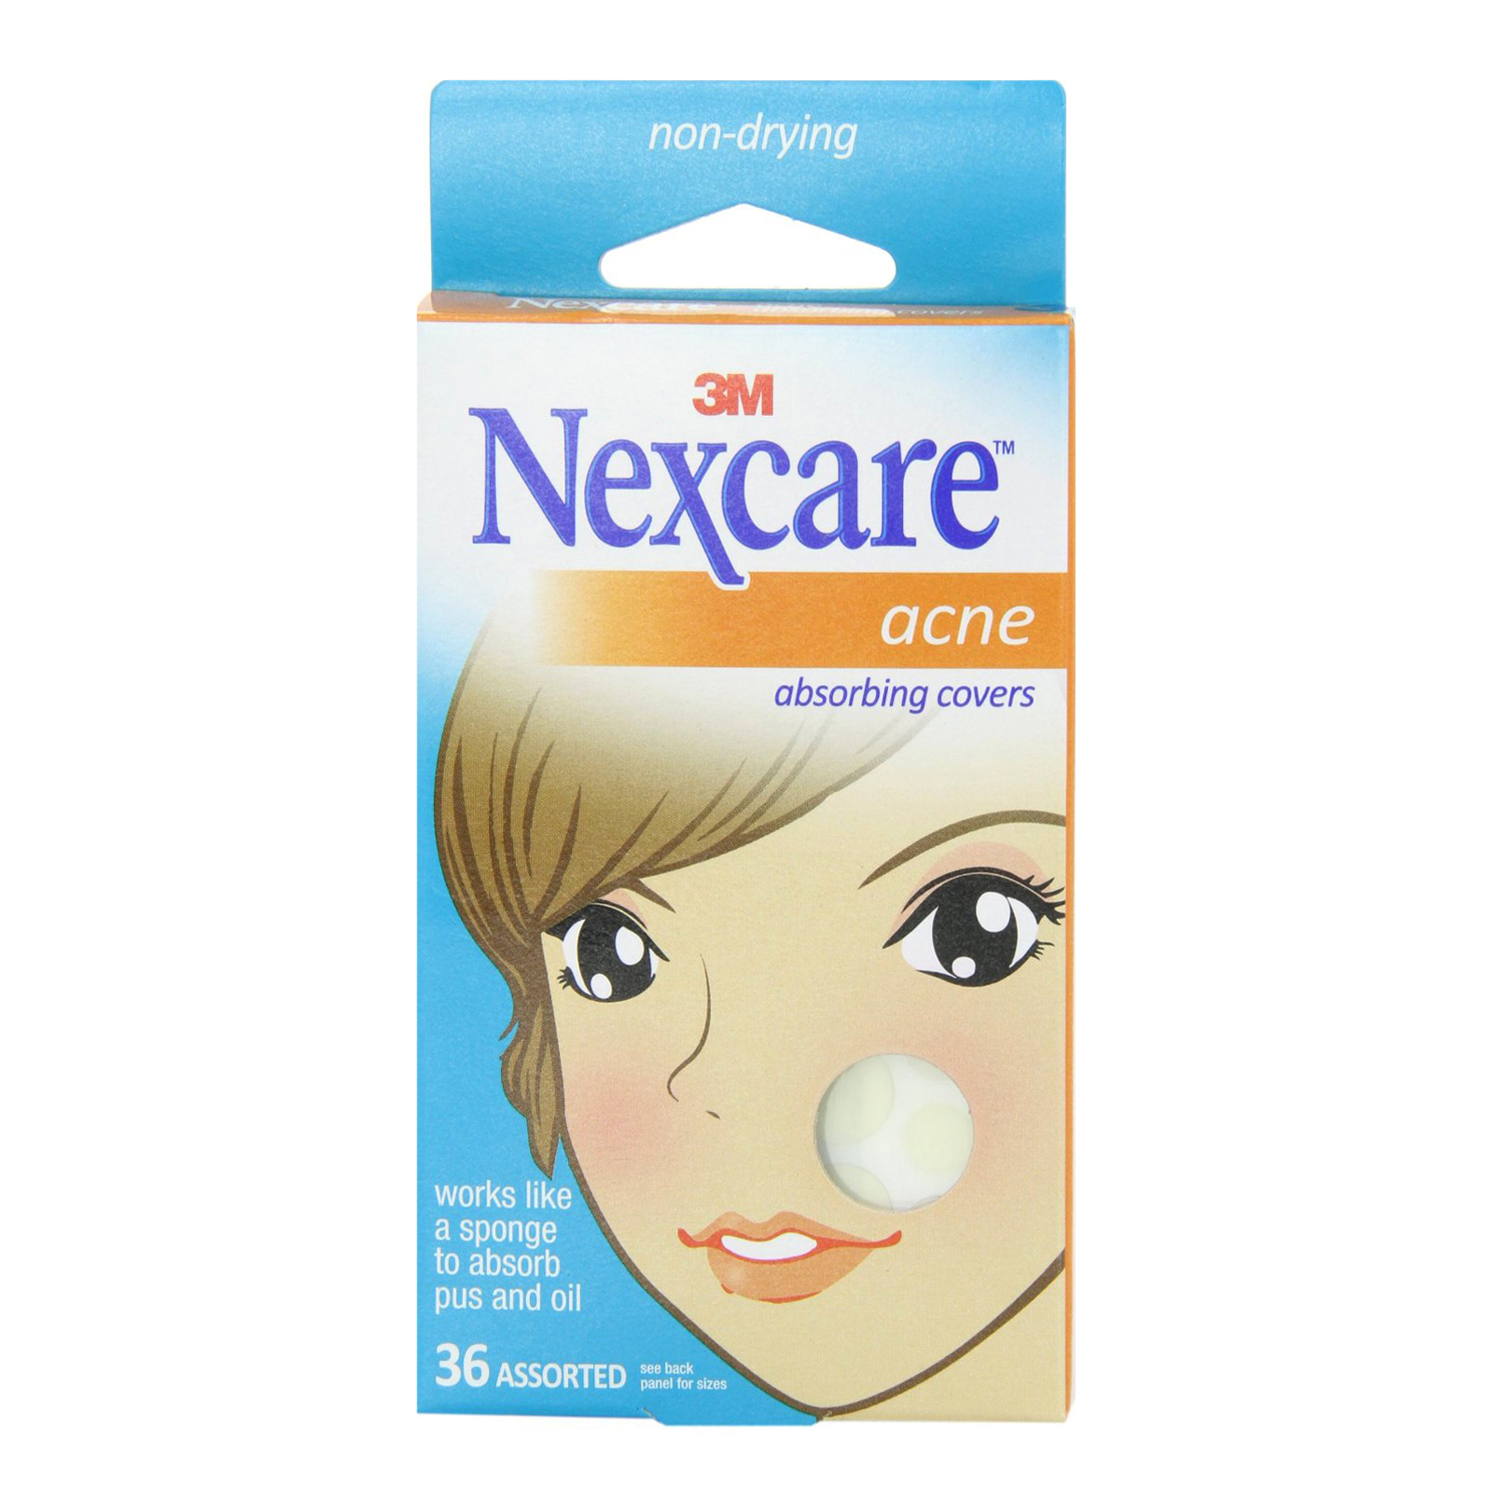3M: (679, 349, 793, 423)
